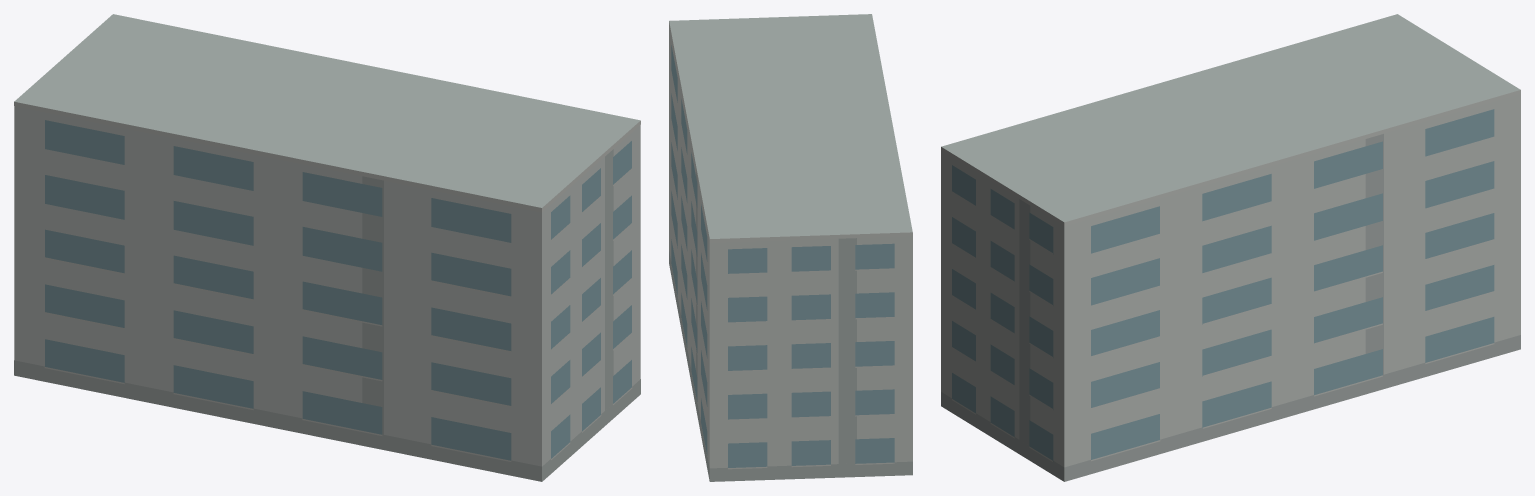
Rendered from residential-89bcb8a8-c64c-485b-ac78-36d551431fce.glb.
3 views of the same model, side by side, from view 1: azimuth 30°, elevation 25°; view 2: azimuth 150°, elevation 25°; view 3: azimuth 270°, elevation 25° (orthographic). The views are drawn at different scales.
Parts seen in each view (by area): view 1: residential-89bcb8a8-c64c-485b-ac78-36d551431fce.tmp; view 2: residential-89bcb8a8-c64c-485b-ac78-36d551431fce.tmp; view 3: residential-89bcb8a8-c64c-485b-ac78-36d551431fce.tmp.
Part boxes in pixels (box(x1,y1,x2,y2)): residential-89bcb8a8-c64c-485b-ac78-36d551431fce.tmp: box(14, 14, 640, 481); residential-89bcb8a8-c64c-485b-ac78-36d551431fce.tmp: box(669, 14, 912, 481); residential-89bcb8a8-c64c-485b-ac78-36d551431fce.tmp: box(941, 14, 1520, 481).
Bounding box in the file's own units: 26.27 × 15.25 × 30.89.
